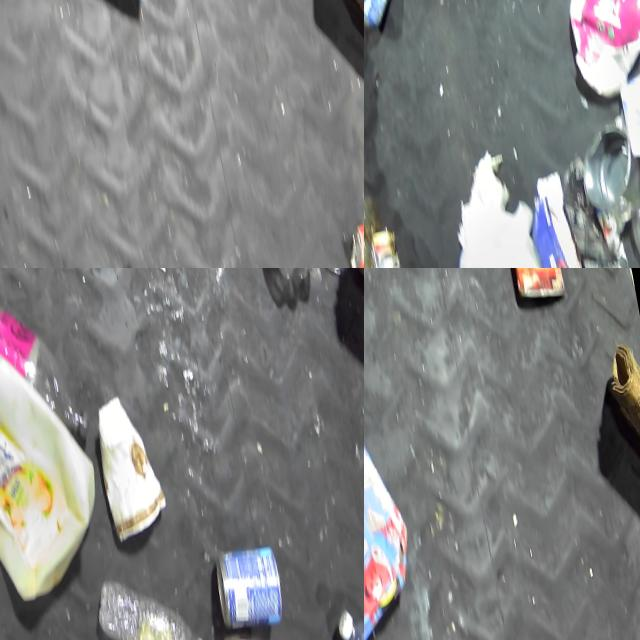can: (208, 540, 289, 640), (572, 120, 640, 237), (498, 268, 567, 313), (341, 219, 364, 268)
non_white_jug: (552, 0, 640, 108)
plastic_bottle: (90, 561, 208, 640), (332, 599, 364, 640)
